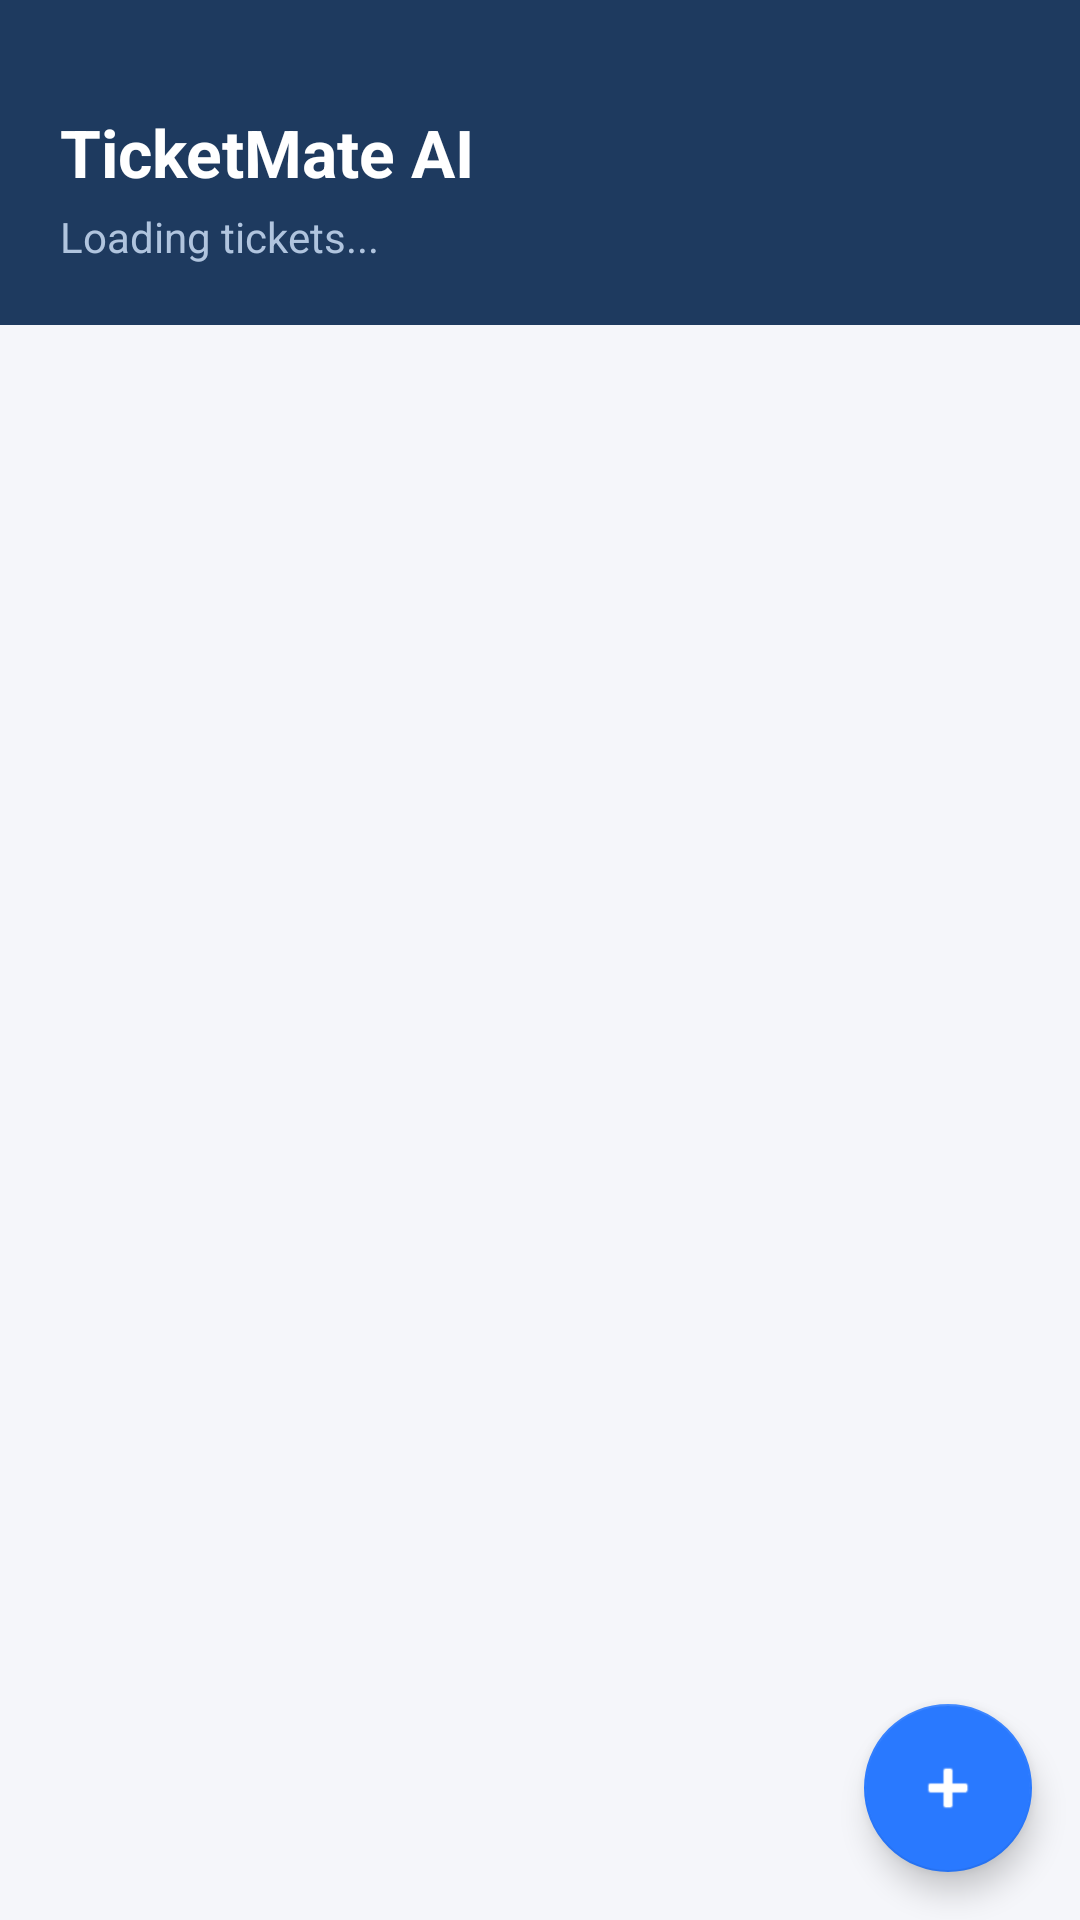

Where icons sit on this 1080 x 1920 app screen, as Rect(x1, y1, x2, y2):
Add ticket: Rect(864, 1704, 1032, 1872)
